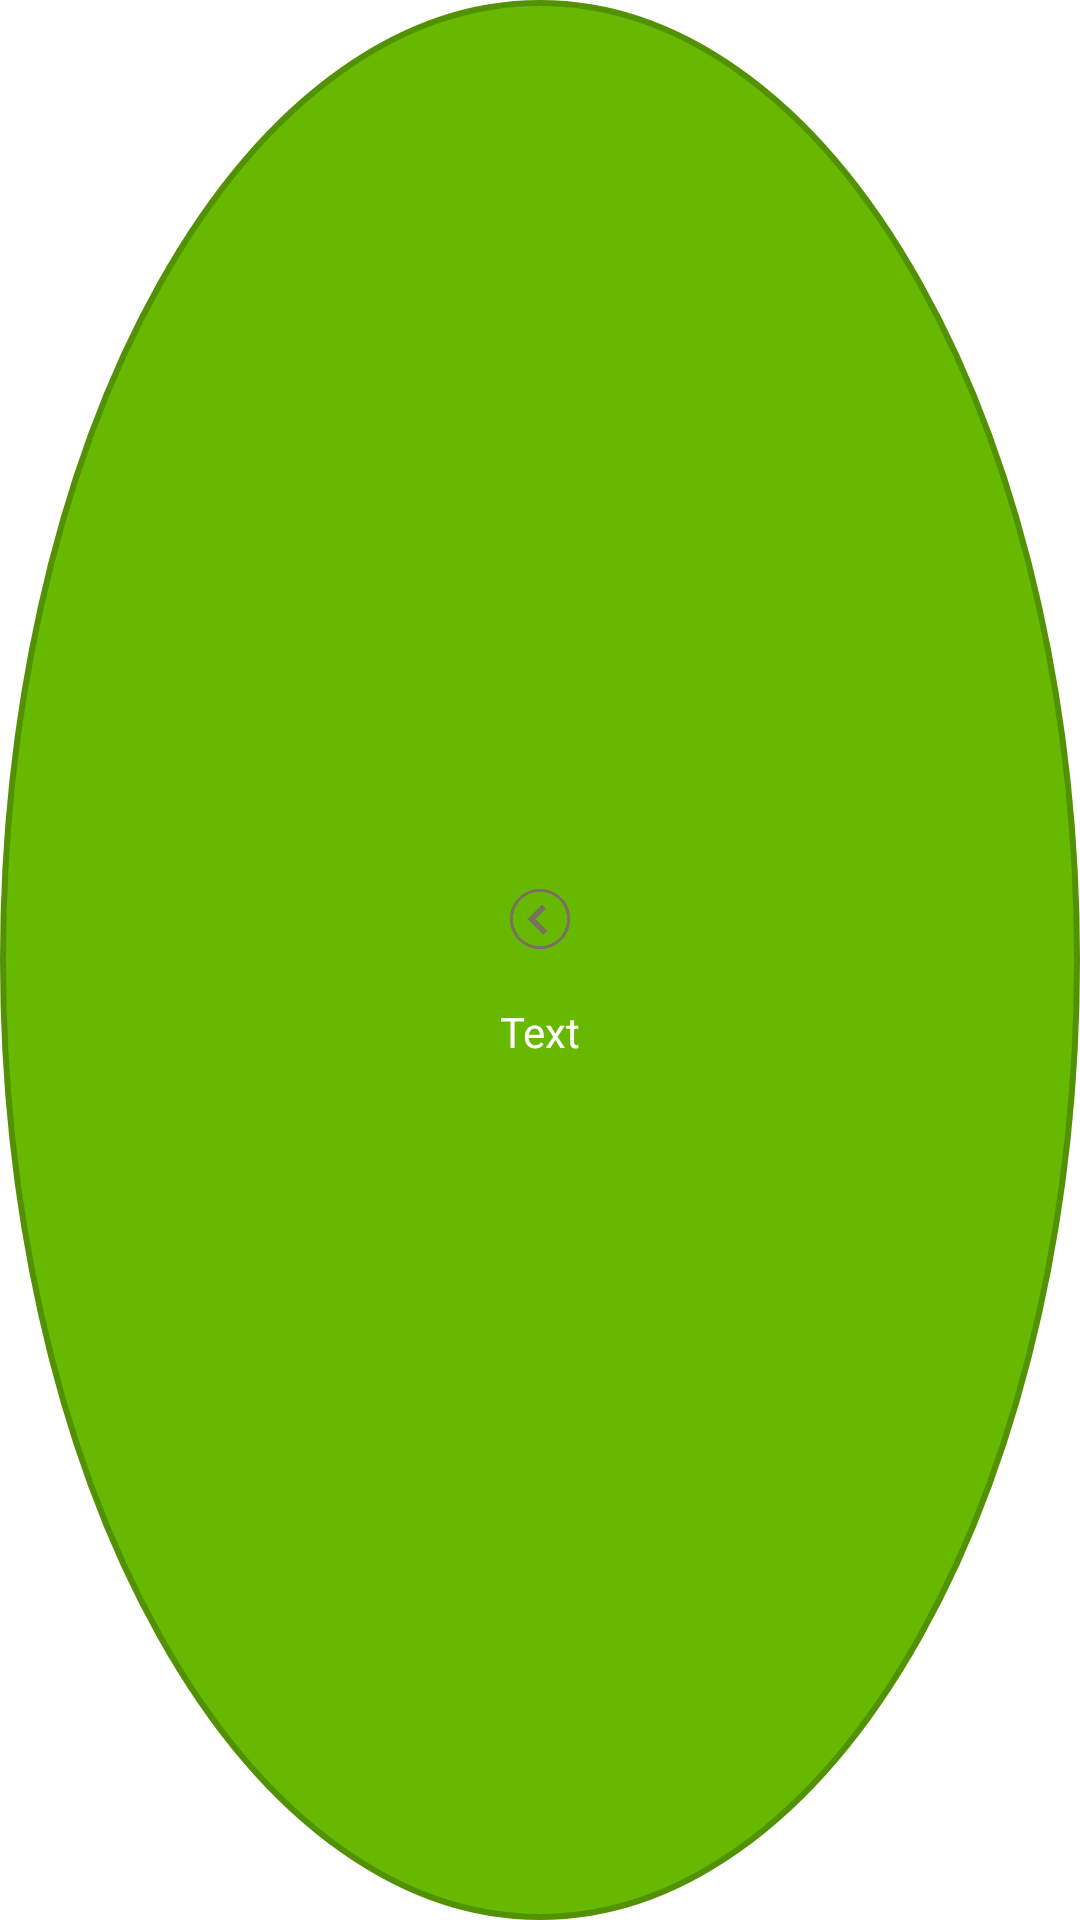

Point at icon controls on the screen. Image size 1080px×1920px, points as (x,y).
arrow left: (540,919)
